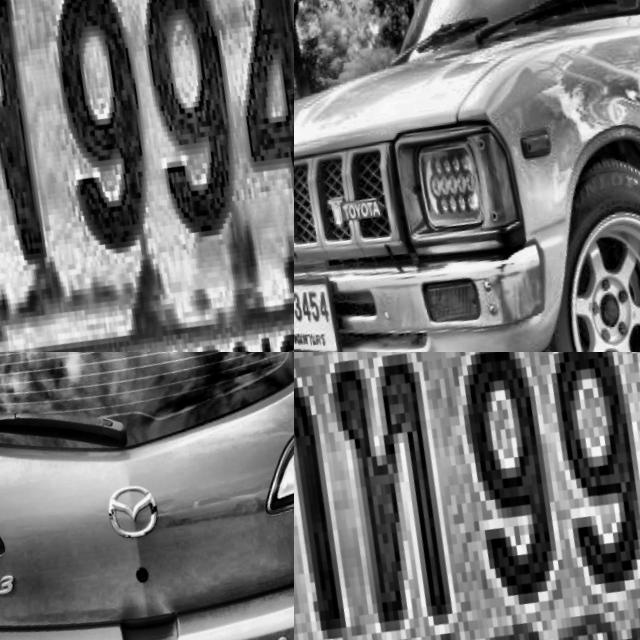license-plate: (0, 0, 294, 352), (294, 352, 640, 640), (294, 257, 361, 352)
